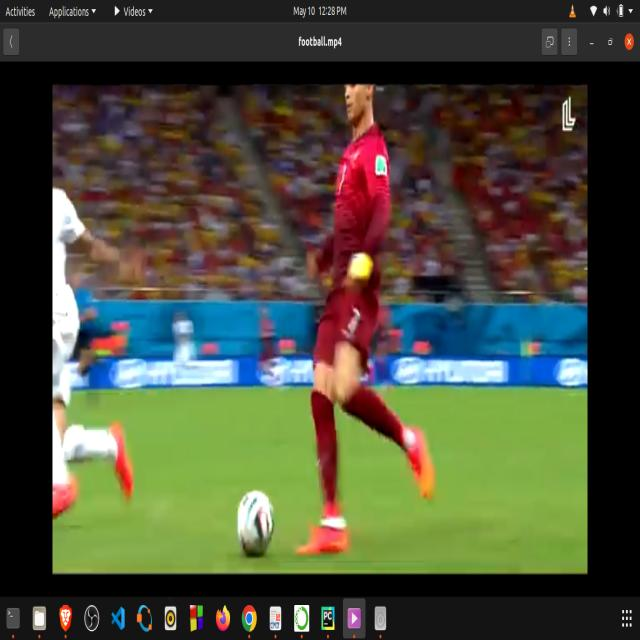Ball: (232, 487, 294, 570)
football-players: (305, 85, 445, 559), (52, 177, 136, 542)
